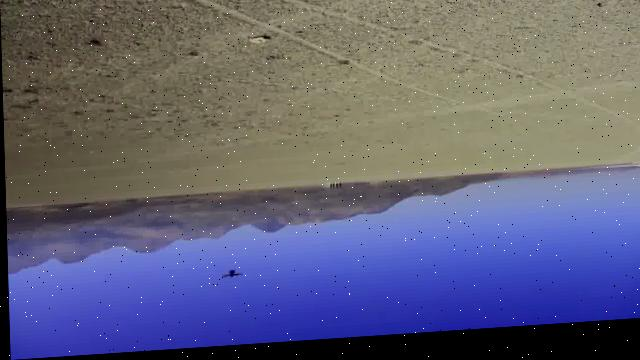drone: (219, 272, 243, 286)
